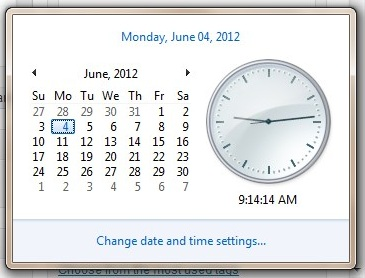clock: (207, 59, 333, 184)
